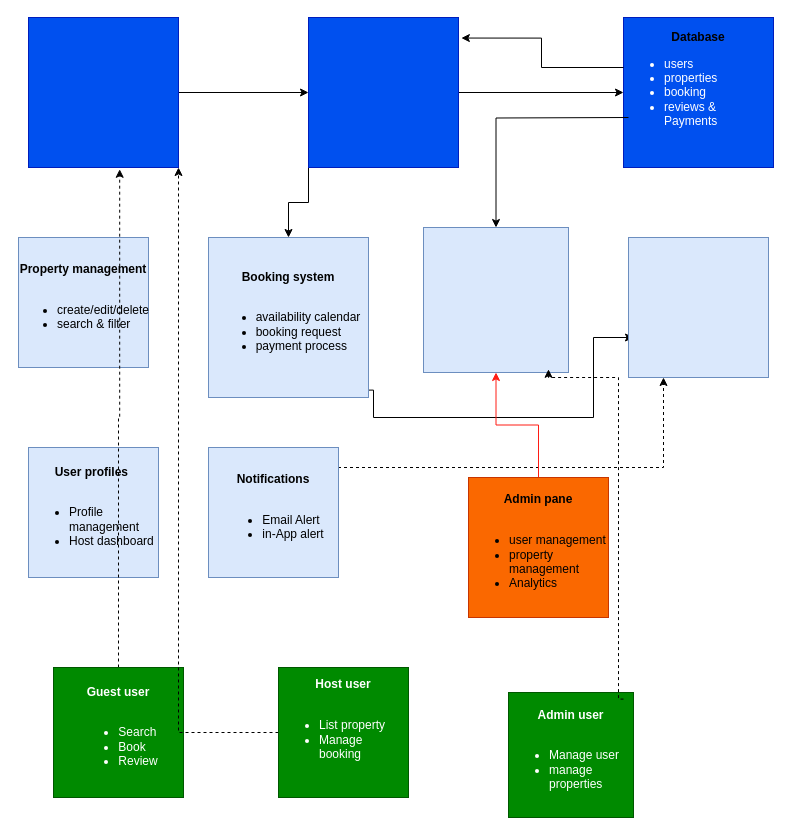
This 791x835 diagram has some shape labels left out. The centre of each missing label's shape, as x and y in pixels:
"API Layer Rest Endpoint Auth Middleware" belongs at point (383, 92).
"External service payment gateway Email service" belongs at point (698, 307).
"review & rating write review display review" belongs at point (495, 299).
"user authentication registration login Role Managment" belongs at point (103, 92).
